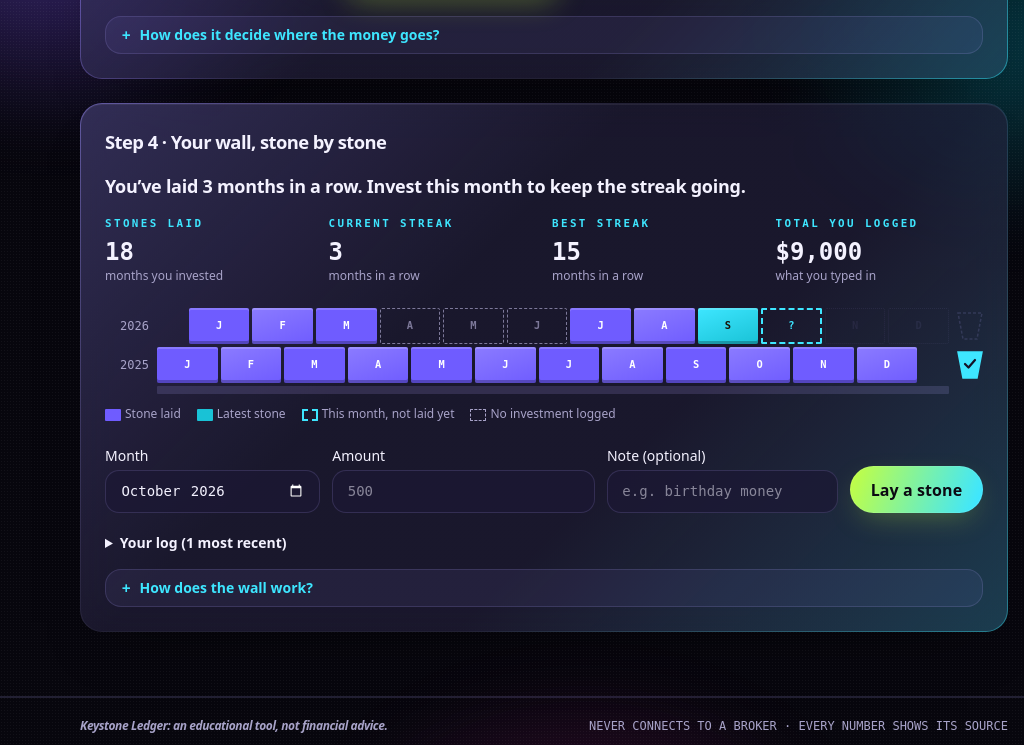
The growing wall › validates the log form in plain English
(page scrolled)
Click the button "Lay a stone" at point(916, 490), box [850,466,983,513]
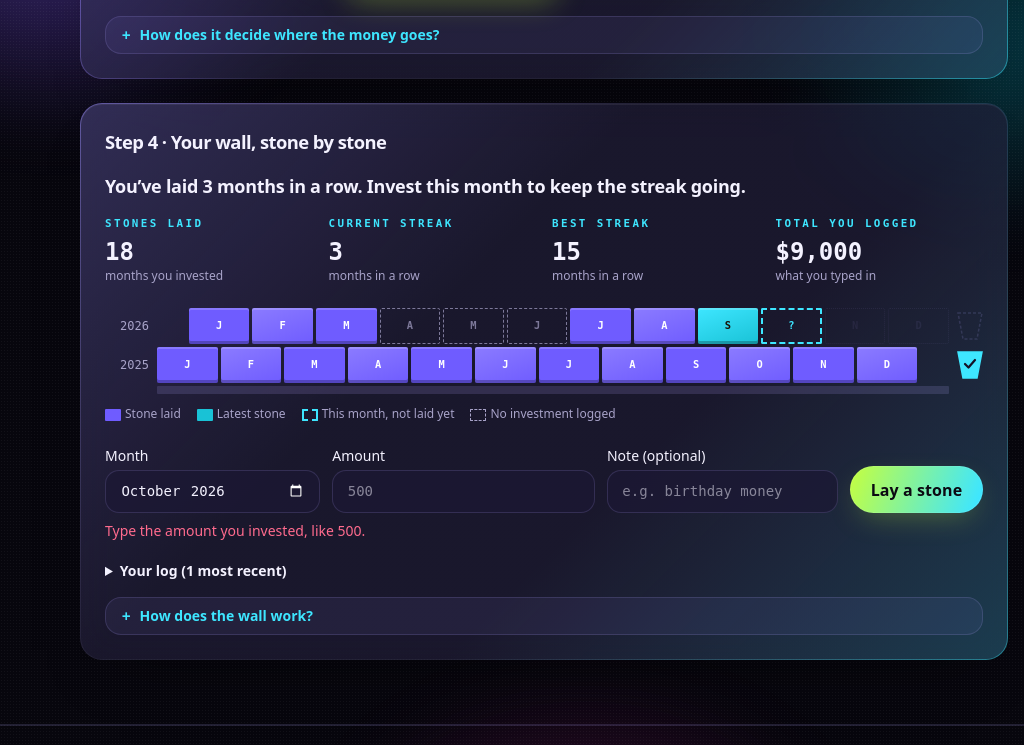
Check: the text "Type the amount you invested, like 500." is shown, box [105,521,365,540]
